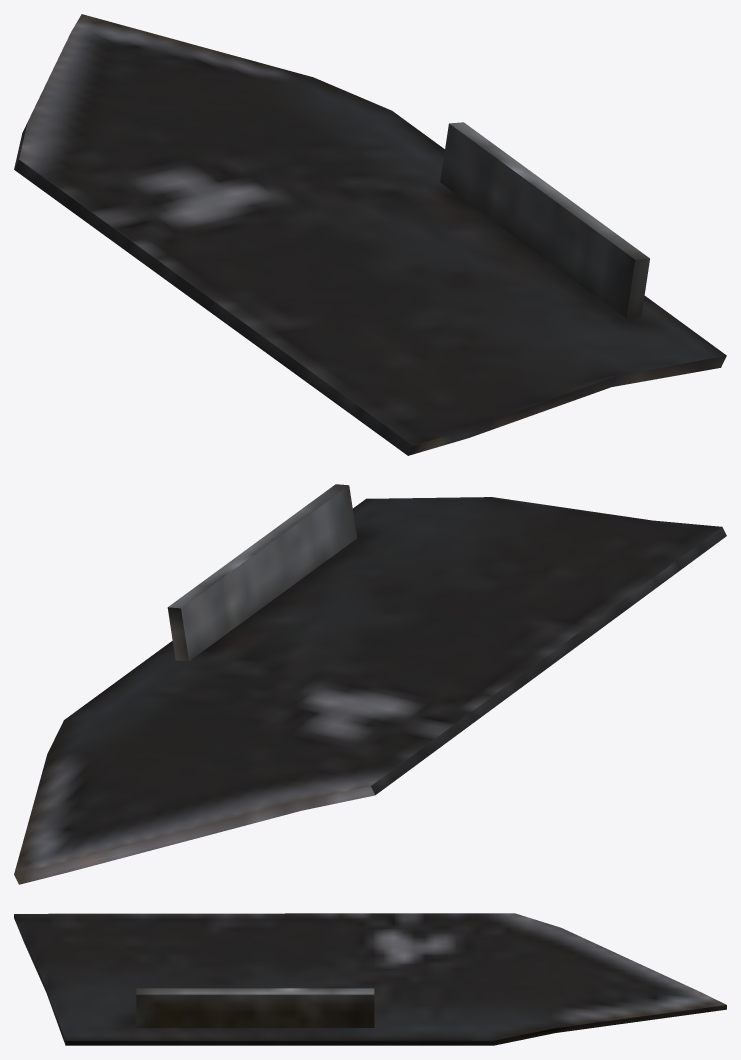
Rendered from CavalierFrontWindowArmor_WorldItem.fbx.
3 renders of one model, top to bottom at view 1: azimuth 30°, elevation 25°; view 2: azimuth 150°, elevation 25°; view 3: azimuth 270°, elevation 25°, orthographic. The views are drawn at different scales.
Parts seen in each view (by area): view 1: FrontRightWindowArmor_obj; view 2: FrontRightWindowArmor_obj; view 3: FrontRightWindowArmor_obj.
Part boxes in pixels (left/top/right/bottom): FrontRightWindowArmor_obj: left=14, top=14, right=726, bottom=455; FrontRightWindowArmor_obj: left=14, top=484, right=726, bottom=884; FrontRightWindowArmor_obj: left=14, top=913, right=726, bottom=1045.
Size of the model in its own units: 0.3143 by 0.0669 by 0.8403.
